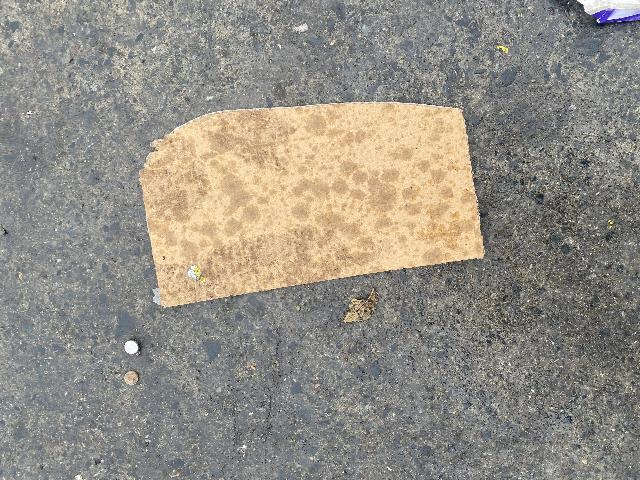Kagit: (129, 103, 492, 295), (567, 0, 640, 30)
Metal: (121, 371, 142, 385), (123, 339, 140, 356)
Organik: (343, 289, 389, 324)
